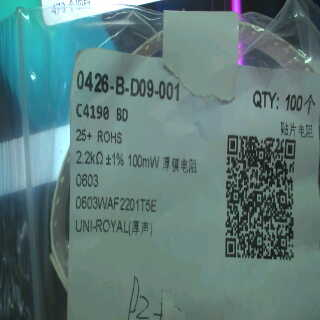2.2kR: (74, 146, 106, 169)
